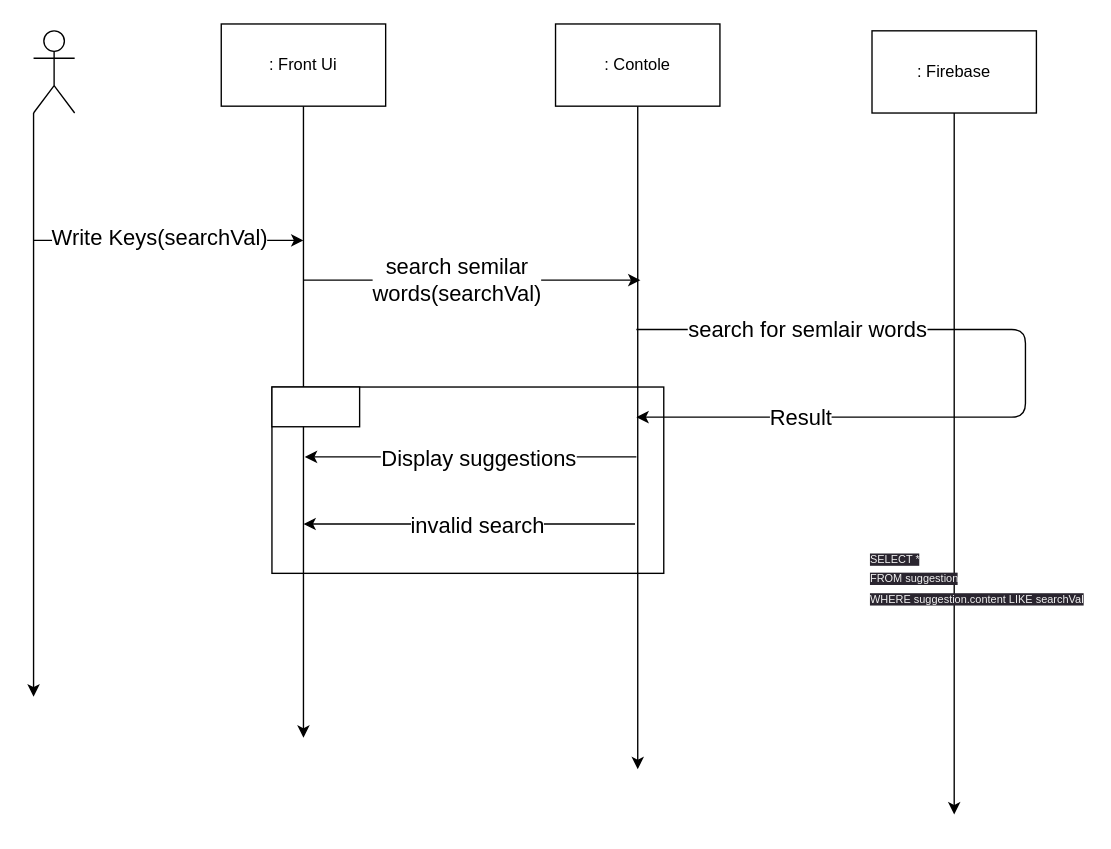
Some shapes in this 1111 by 849 pixel diagram are drawn without their labels. The shapes that lost their labels are listed below. From the top down, each one's centre as x and y in pixels, then its label:
the point at 53,71: Actor
the point at 315,406: ALT
